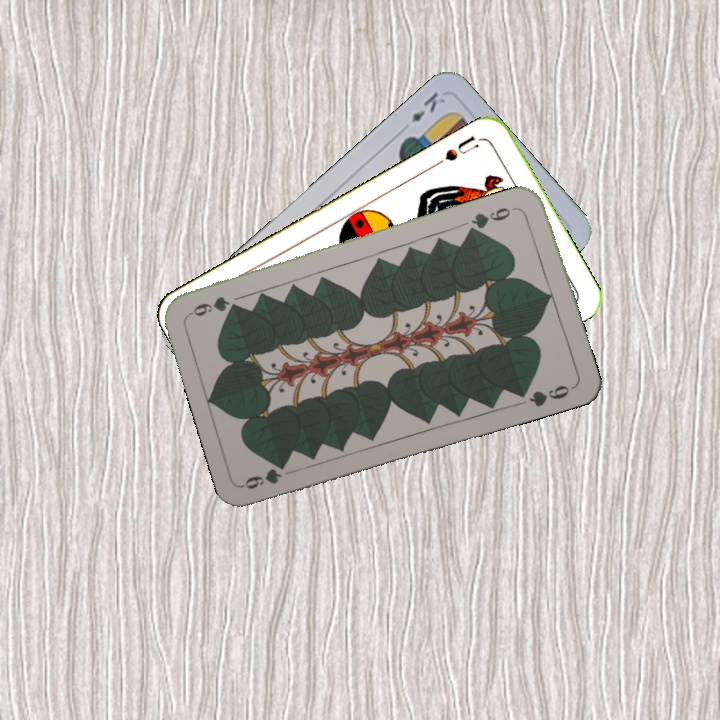EK: (407, 87, 448, 126)
G9: (465, 202, 521, 234), (240, 459, 290, 492)
SU: (431, 131, 481, 169)
